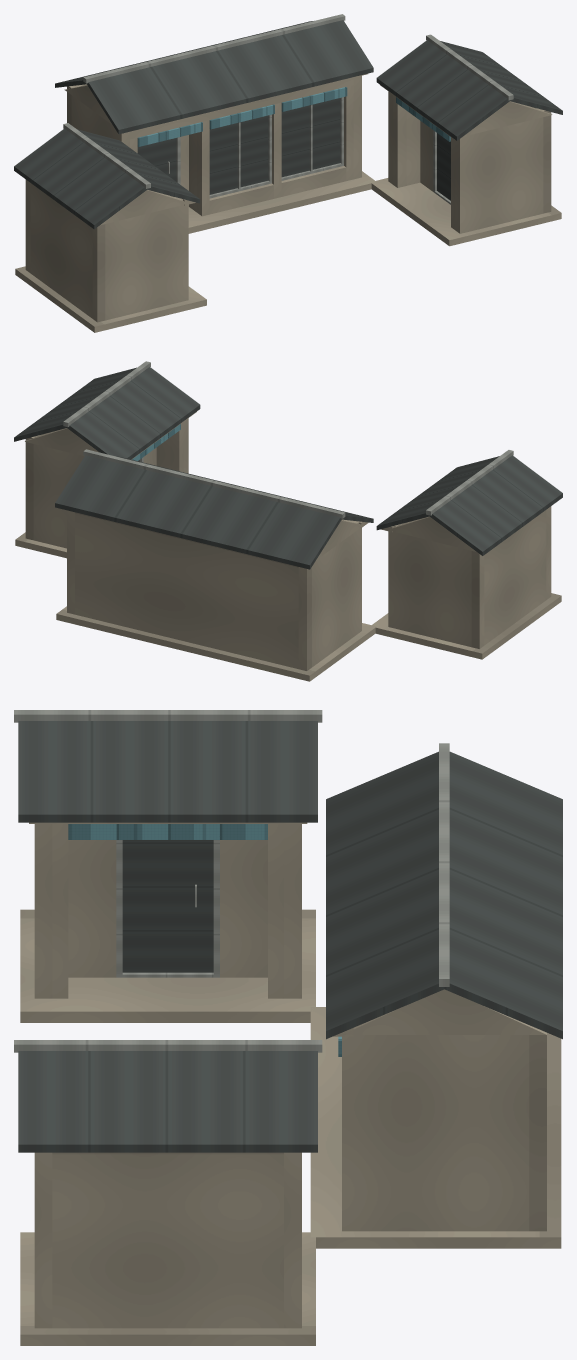
The picture shows the model from 3 angles, top to bottom: view 1: azimuth 30°, elevation 25°; view 2: azimuth 150°, elevation 25°; view 3: azimuth 270°, elevation 25°; orthographic projection. The views are drawn at different scales.
Visible parts, largest first — view 1: asuncion; view 2: asuncion; view 3: asuncion.
Part boxes in pixels (x1=…): asuncion: x1=14, y1=14, x2=562, y2=332; asuncion: x1=14, y1=361, x2=562, y2=681; asuncion: x1=14, y1=710, x2=562, y2=1345.
Bounding box in the file's own units: 8.6 × 2.56 × 4.68.
Materials: 1 (1 with a texture image).
